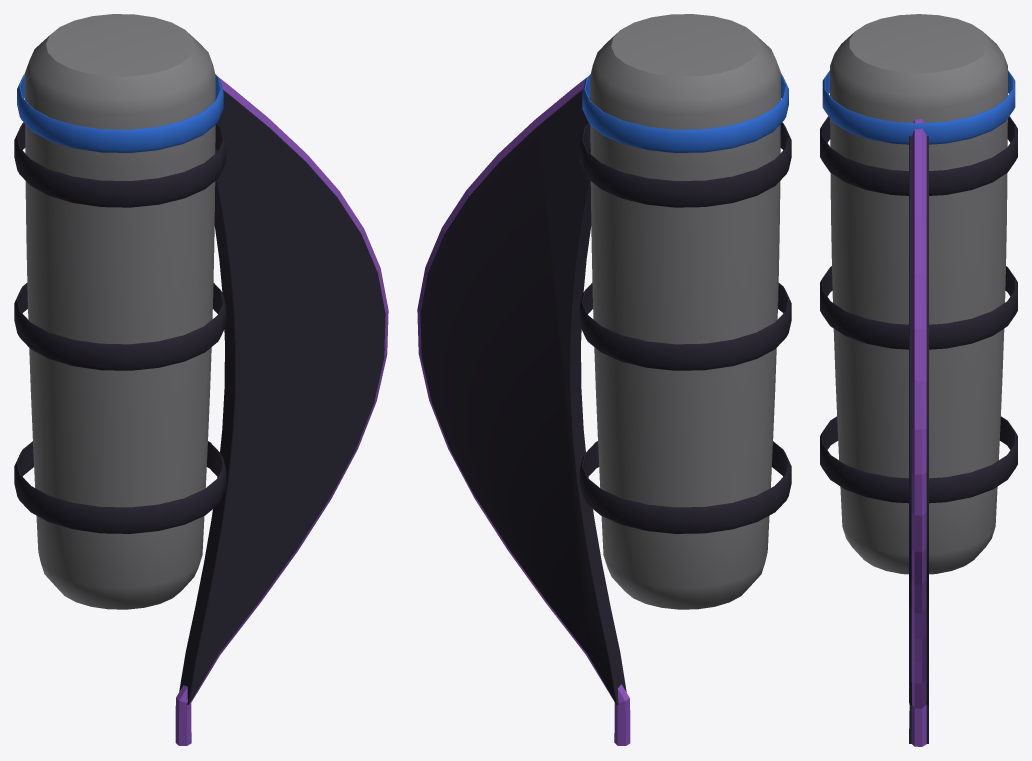
The model's file is Kit_Limb_LeagueScythe_L.glb.
The picture shows the model from 3 angles, left to right: view 1: azimuth 30°, elevation 25°; view 2: azimuth 150°, elevation 25°; view 3: azimuth 270°, elevation 25°; orthographic projection. The views are drawn at different scales.
Parts seen in each view (by area): view 1: Kit_Limb_LeagueScythe_L; view 2: Kit_Limb_LeagueScythe_L; view 3: Kit_Limb_LeagueScythe_L.
Boxes of the visible parts, left/top/right/bottom form: Kit_Limb_LeagueScythe_L: left=14, top=14, right=388, bottom=745; Kit_Limb_LeagueScythe_L: left=417, top=14, right=791, bottom=745; Kit_Limb_LeagueScythe_L: left=820, top=14, right=1017, bottom=746.
Size of the model in its own units: 0.2309 by 0.441 by 0.1172.
